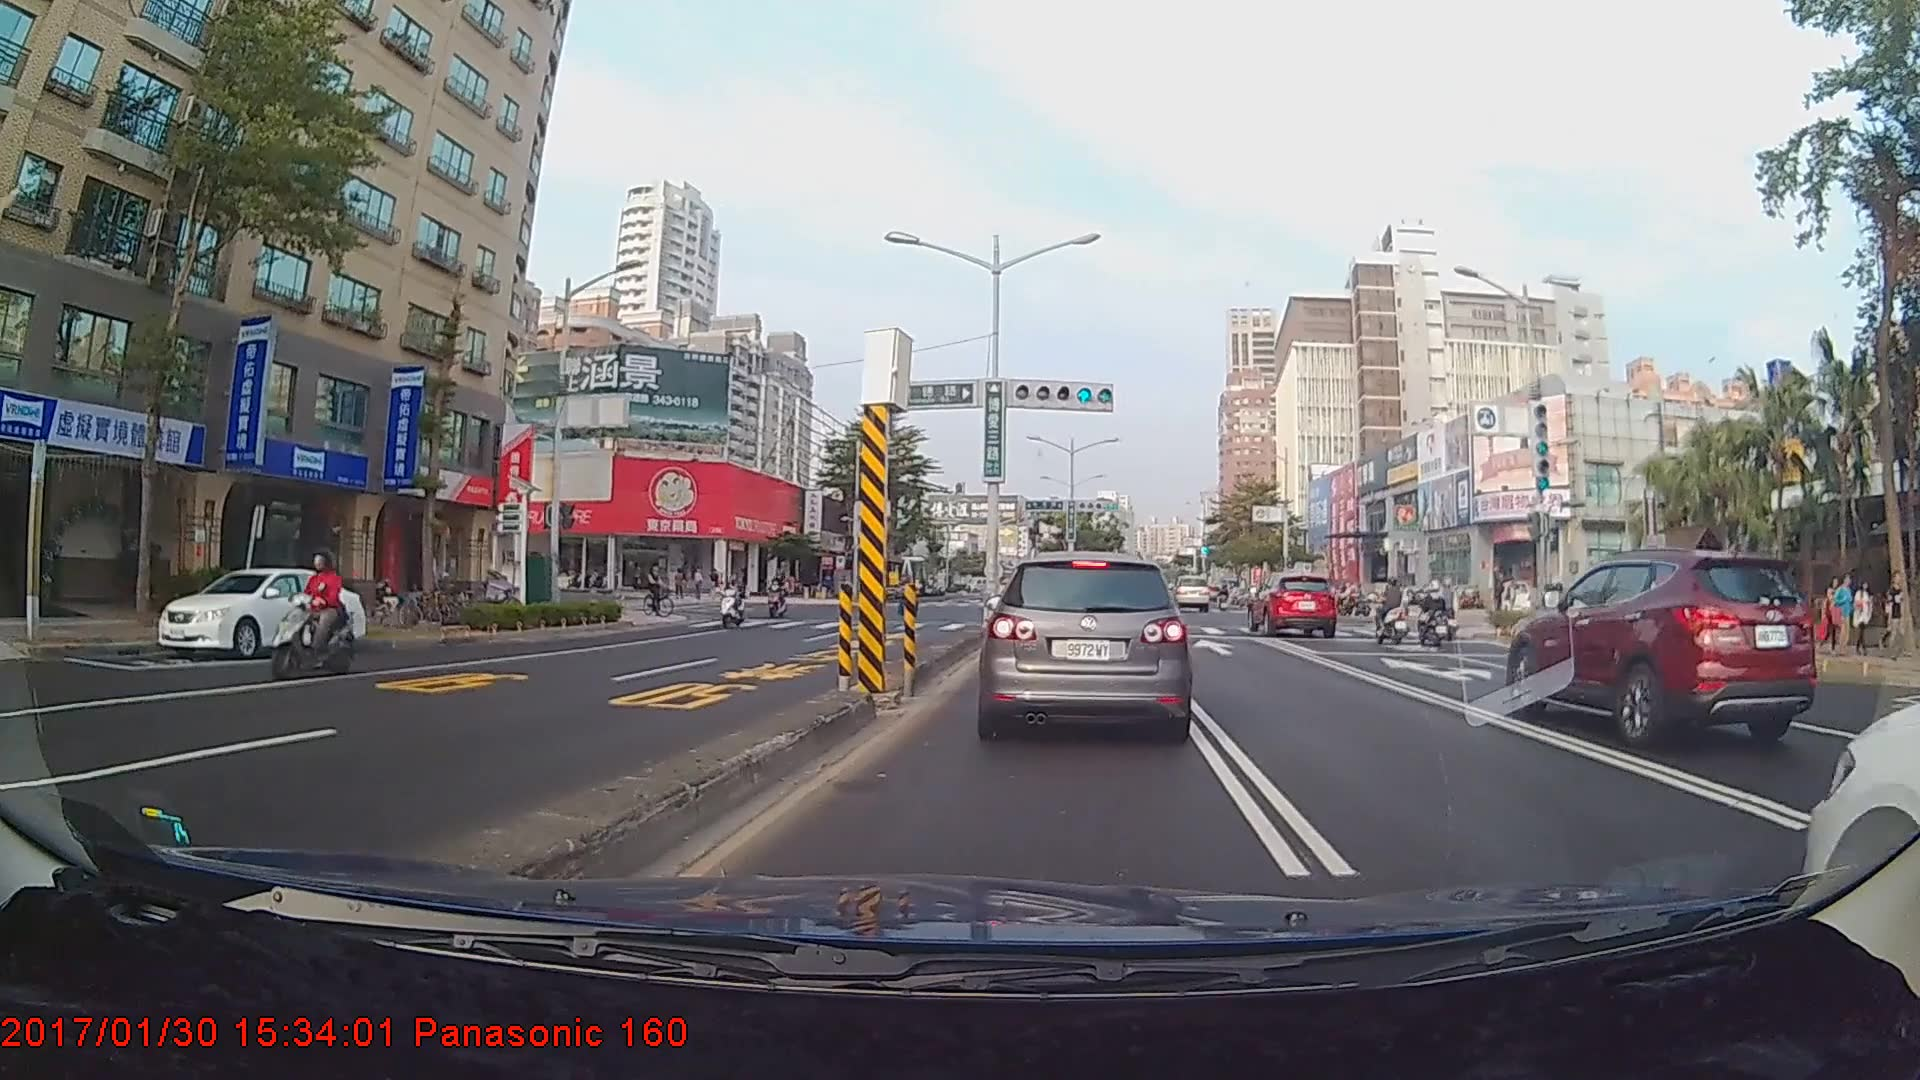pedestrian: (1884, 568, 1912, 655), (1829, 574, 1854, 660), (1822, 576, 1847, 657), (1852, 580, 1875, 650)
rider: (260, 547, 358, 684), (1363, 578, 1417, 650), (1409, 582, 1458, 648), (639, 561, 679, 624), (717, 571, 755, 633), (768, 568, 795, 621)
vehicle: (1506, 550, 1823, 747), (979, 549, 1192, 738), (156, 563, 363, 657), (1252, 571, 1340, 638), (1171, 573, 1210, 612)
